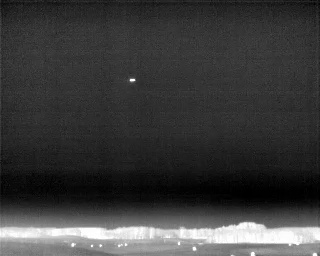AIRPLANE: (127, 76, 137, 84)
